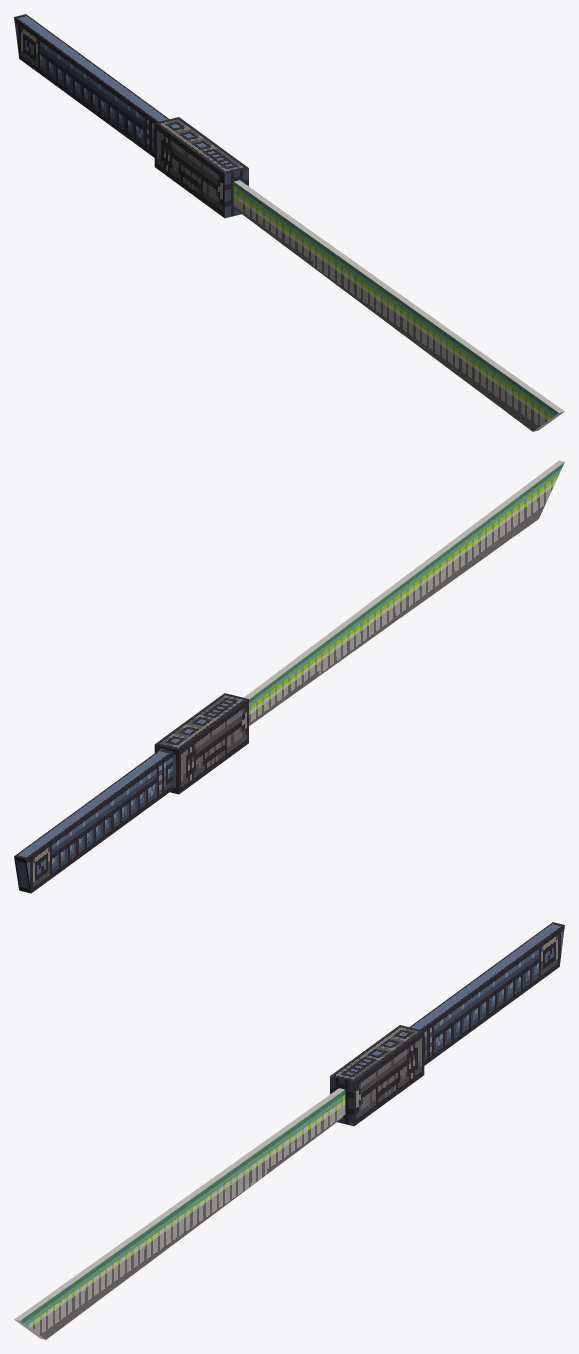
File: KatannaSword.gltf
3 views of the same model, one above another, from view 1: azimuth 30°, elevation 25°; view 2: azimuth 150°, elevation 25°; view 3: azimuth 330°, elevation 25° (orthographic).
Parts seen in each view (by area): view 1: Grip, Blade; view 2: Grip, Blade; view 3: Grip, Blade.
Boxes of the visible parts, x1,y1,x2,y2 form: Grip: [14, 14, 248, 218]; Blade: [233, 180, 564, 431]; Grip: [14, 693, 248, 893]; Blade: [244, 460, 564, 725]; Grip: [330, 922, 564, 1126]; Blade: [14, 1088, 345, 1339].
Bounding box in the file's own units: 0.05 × 0.0875 × 1.94.
1 material, 1 textured.
